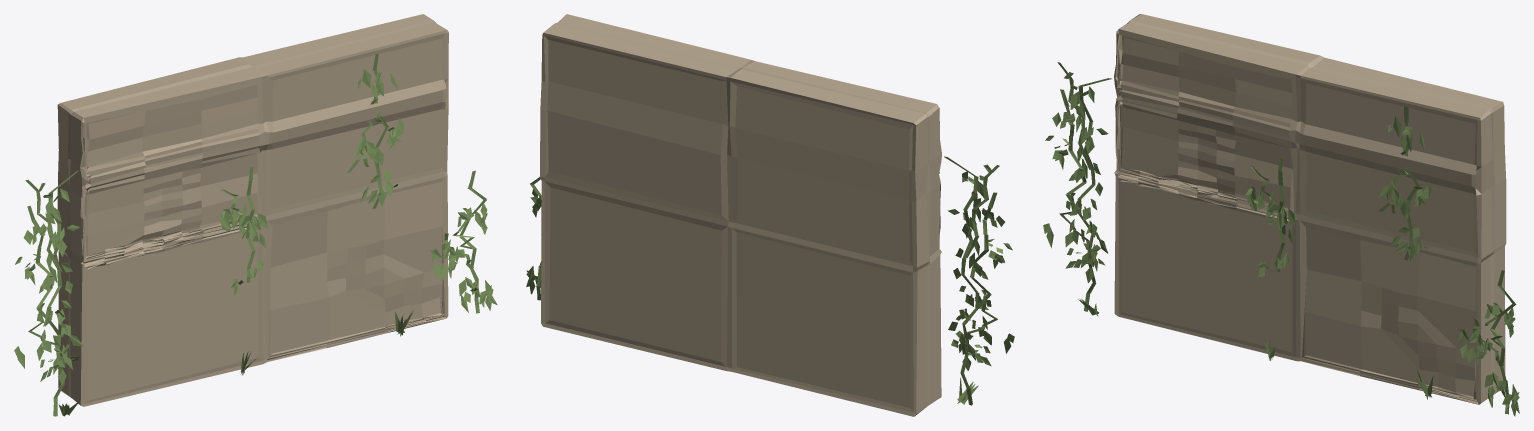
Rendered from SM_Wall_A.fbx.
The picture shows the model from 3 angles, left to right: view 1: azimuth 30°, elevation 25°; view 2: azimuth 150°, elevation 25°; view 3: azimuth 330°, elevation 25°; orthographic projection. The views are drawn at different scales.
Parts seen in each view (by area): view 1: SM_Wall_A; view 2: SM_Wall_A; view 3: SM_Wall_A.
Part boxes in pixels (x1=…): SM_Wall_A: x1=14, y1=14, x2=497, y2=416; SM_Wall_A: x1=526, y1=14, x2=1014, y2=416; SM_Wall_A: x1=1043, y1=14, x2=1519, y2=416.
Size of the model in its own units: 5.24 by 3.07 by 0.6497.
